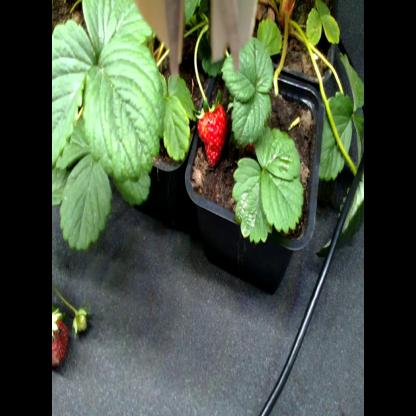ripe: (196, 107, 229, 166)
unripe: (52, 308, 71, 368), (72, 306, 90, 332)
